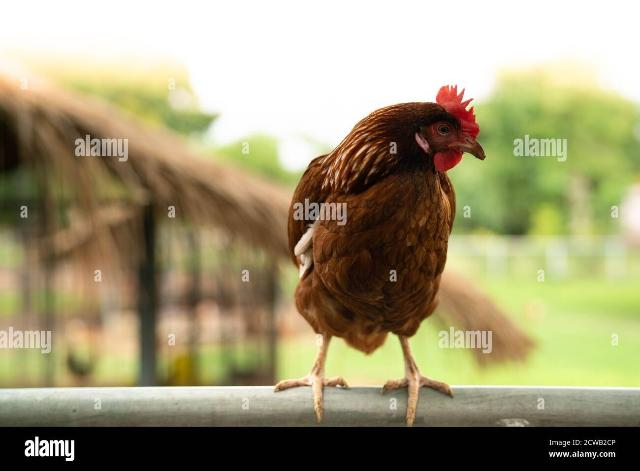Chicken: (276, 85, 488, 425)
